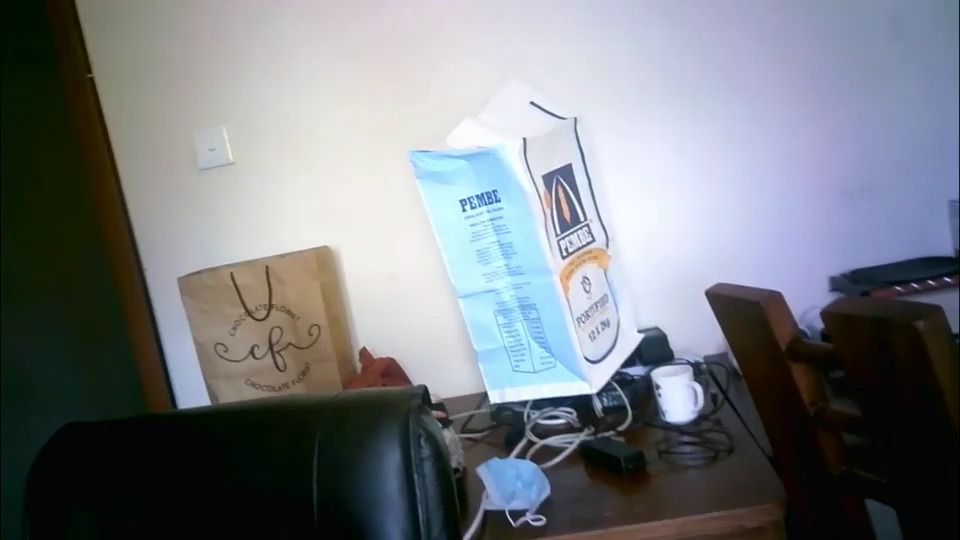wheat_flour_blue_label: (408, 81, 645, 405)
